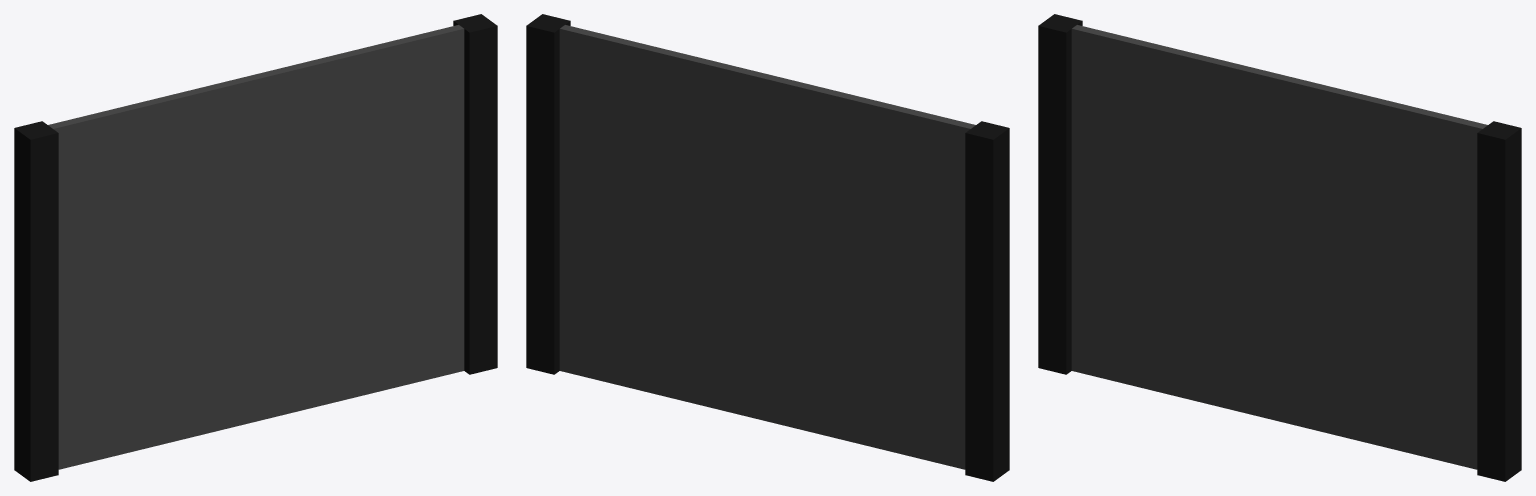
The model's file is zabor.obj.
The picture shows the model from 3 angles, left to right: view 1: azimuth 30°, elevation 25°; view 2: azimuth 150°, elevation 25°; view 3: azimuth 330°, elevation 25°; orthographic projection.
Size of the model in its own units: 10 by 7 by 0.6.
Materials: 1 (1 with a texture image).
